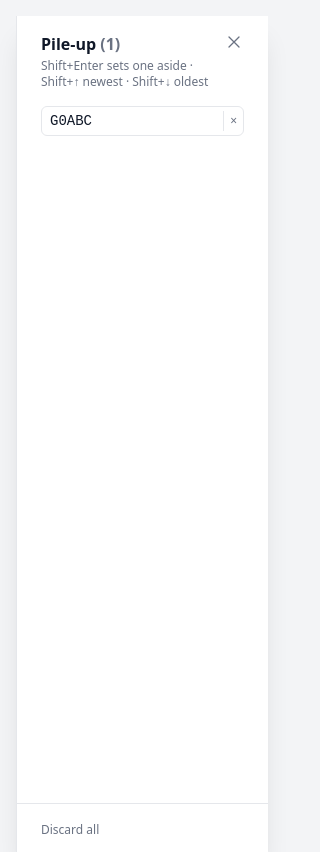
Test case: Phone/CW pile-up panel › P5: discard-all empties the list and leaves the panel showing it is empty
Click the button with aria-label "Discard all stacked callsigns" at coordinates (70, 830), box left=41, top=822, right=99, bottom=838
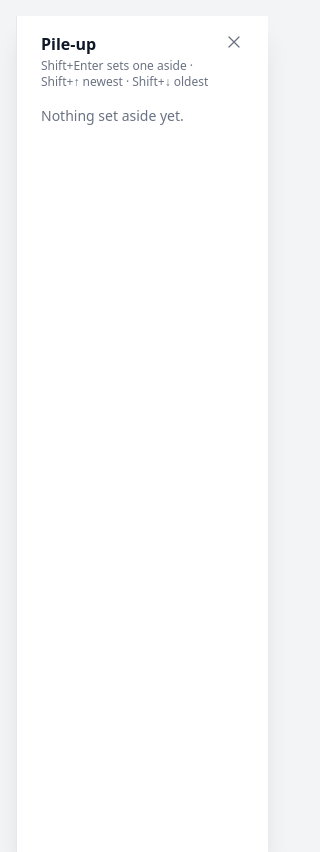
Result: the element labelled "Pile-up" shows "Nothing set aside" at left=41, top=106, right=184, bottom=125
